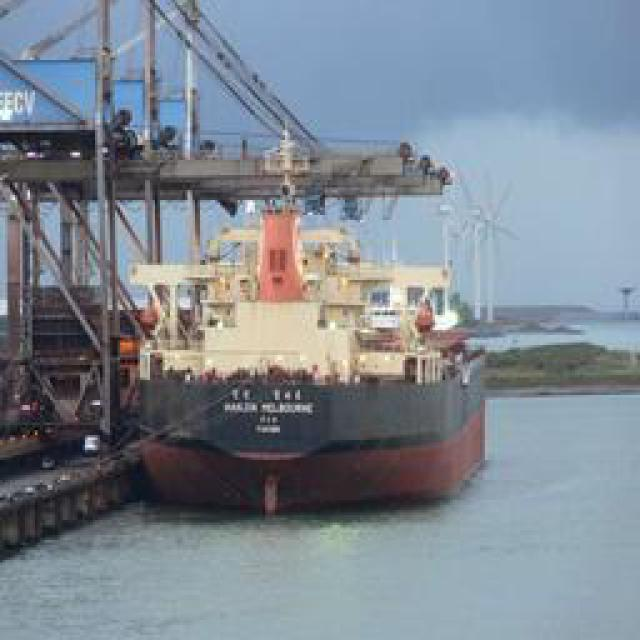Ship: (126, 128, 496, 523)
